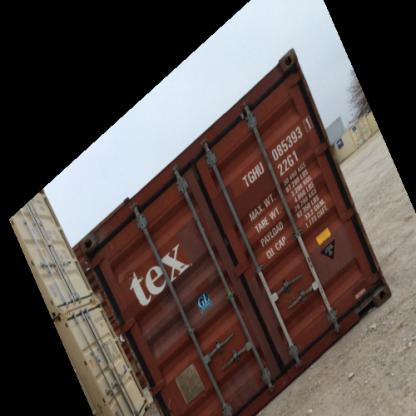Damage: (163, 396, 179, 412)
